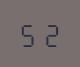five: (19, 20, 39, 47)
two: (40, 20, 60, 47)
